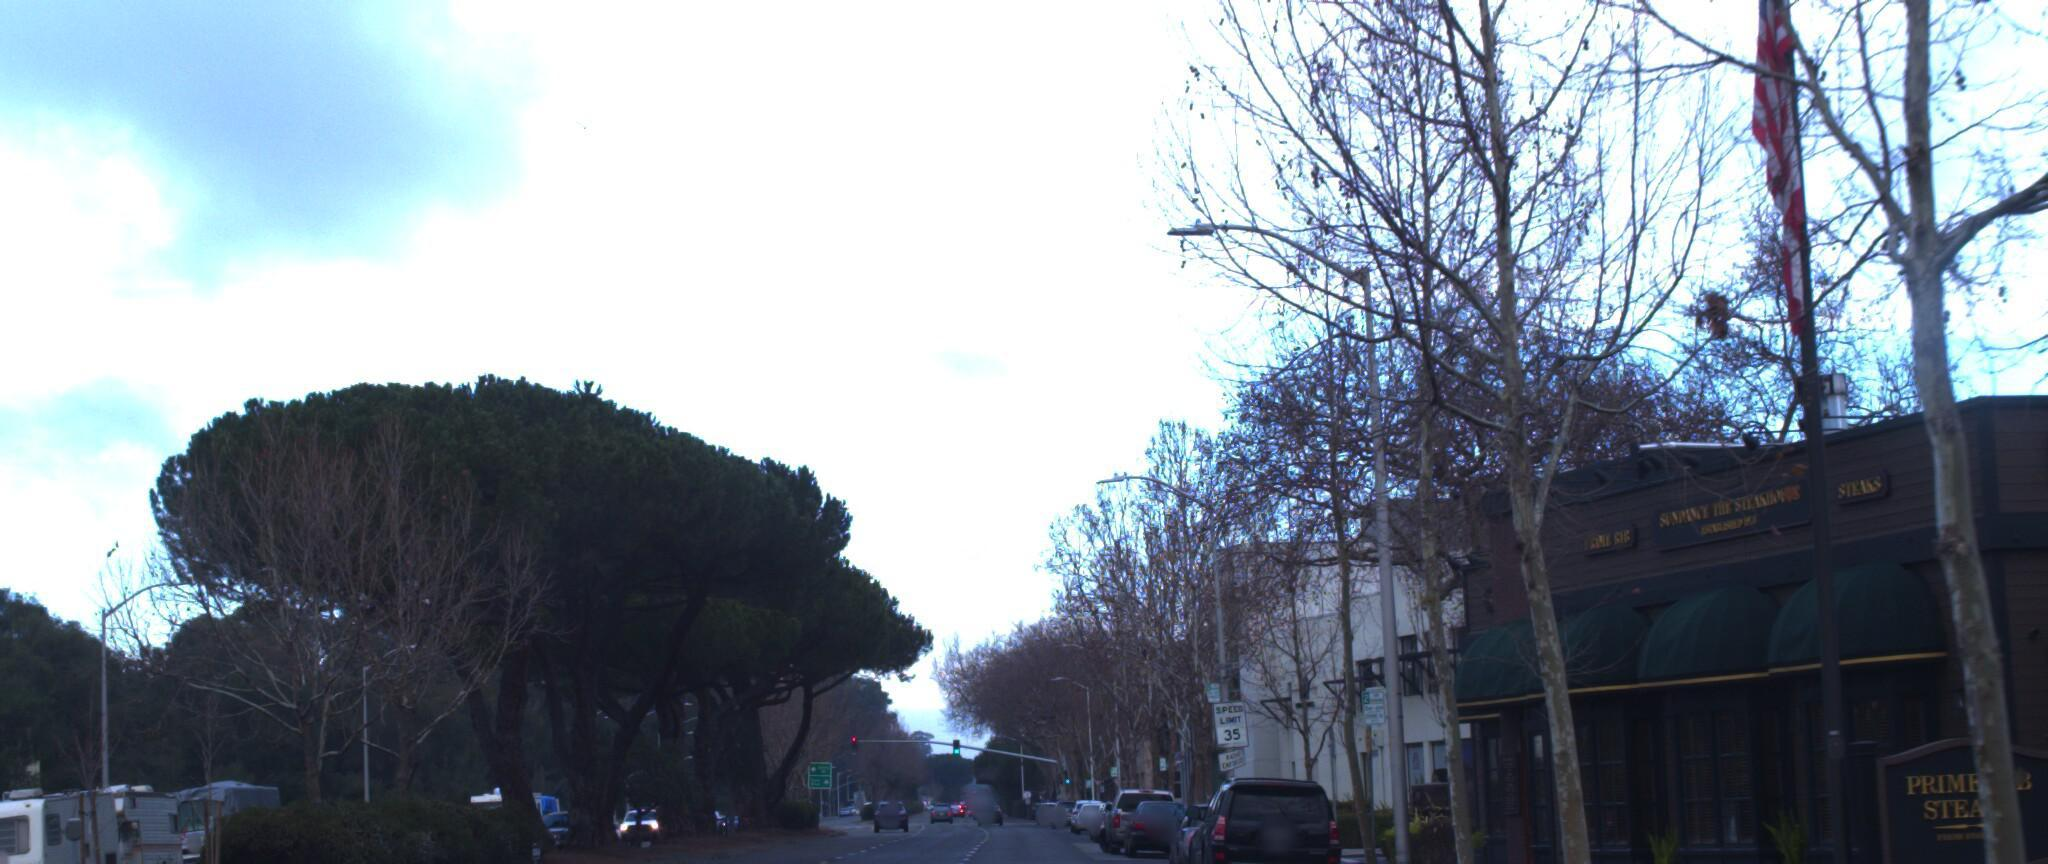car: (1174, 767, 1341, 864), (1110, 788, 1195, 852), (0, 824, 9, 864)
other_vehicle: (0, 769, 124, 864)
